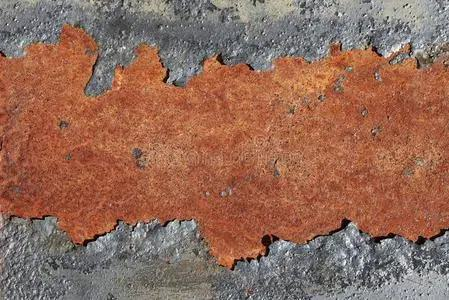Corrosion: (1, 20, 449, 270)
